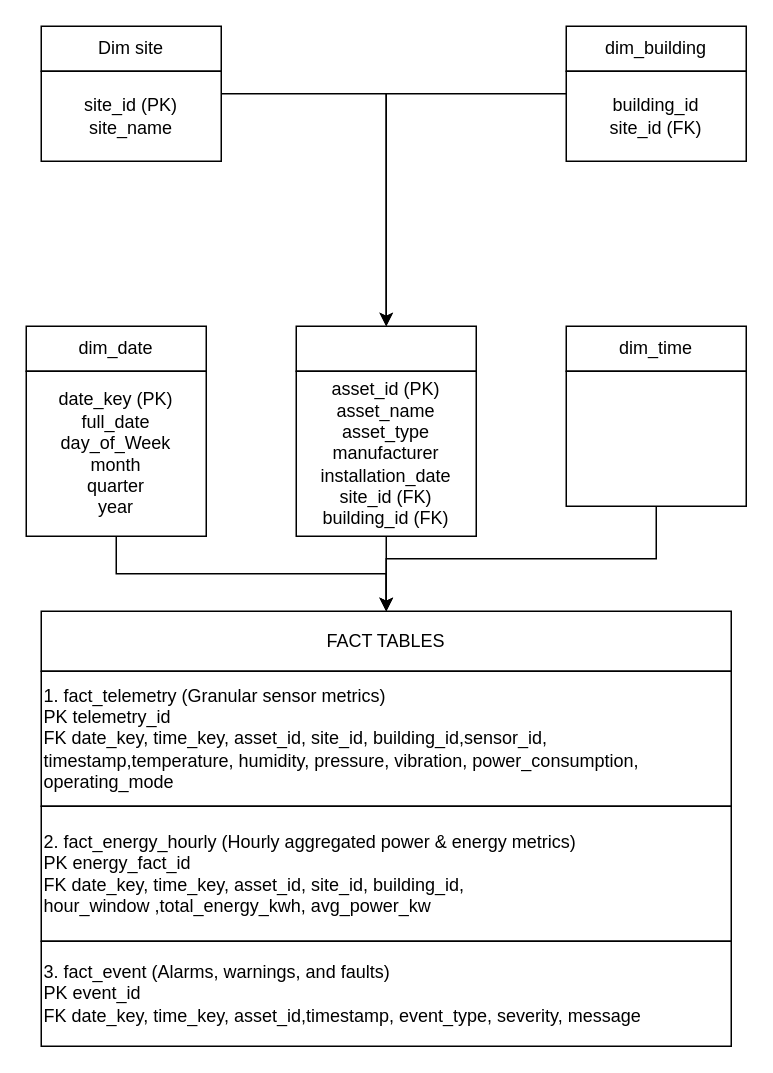
This 773x1073 diagram has some shape labels left out. Each missing label, with the centre of its shape:
"dim_asset" goes at (x=385, y=348).
"time_key (PK) hour minute time_of_day" goes at (x=655, y=438).
